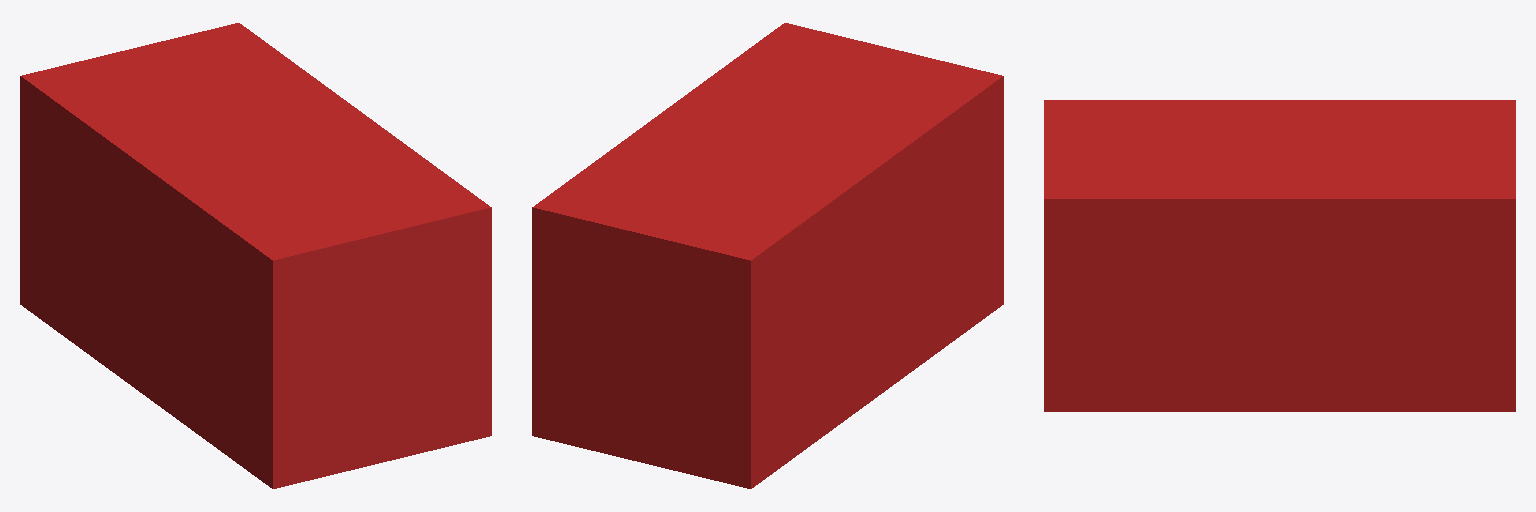
The robot description file, URDF, robot "block_2":
<?xml version="1.0"?>
<robot name="block_2">
  <link name="block_2_base_link">
    <contact>
      <lateral_friction value="0.5"/>
      <spinning_friction value=".001"/>
    </contact>
    <inertial>
      <origin rpy="0 0 0" xyz="0 0 0"/>
      <mass value="0.5"/>
      <inertia ixx="0.0000001" ixy="0" ixz="0" iyy="0.0000001" iyz="0" izz="0.0000001"/>
    </inertial>
    <visual>
      <origin rpy="0 0 0" xyz="0.0 0.0 0.0"/>
      <geometry>
        <box size="0.05 0.1 0.05"/>
      </geometry>
      <material name="blockmat">
        <color rgba="0.8 0.2 0.2 1"/>
      </material>
    </visual>
    <collision>
      <origin rpy="0 0 0" xyz="0.0 0.0 0.0"/>
      <geometry>
        <box size="0.05 0.1 0.05"/>
      </geometry>
    </collision>
  </link>
</robot>

--- What the picture shows (computed from the rendered views, not written in the file) ---
3 views of the same robot in one strip: view 1: azimuth 30°, elevation 25°; view 2: azimuth 150°, elevation 25°; view 3: azimuth 270°, elevation 25° (orthographic).
Robot: block_2 — 1 links, 0 joints (none); root link block_2_base_link; default pose: every joint at zero.
Visible links, largest first — view 1: block_2_base_link; view 2: block_2_base_link; view 3: block_2_base_link.
Link boxes in pixels (<box>): block_2_base_link: <box>20,23,491,488</box>; block_2_base_link: <box>532,23,1003,488</box>; block_2_base_link: <box>1044,100,1515,411</box>.
Bounding box of the posed robot: 0.05 × 0.1 × 0.05 m (x, y, z).
Geometry: primitives only (box / cylinder / sphere), no mesh files.